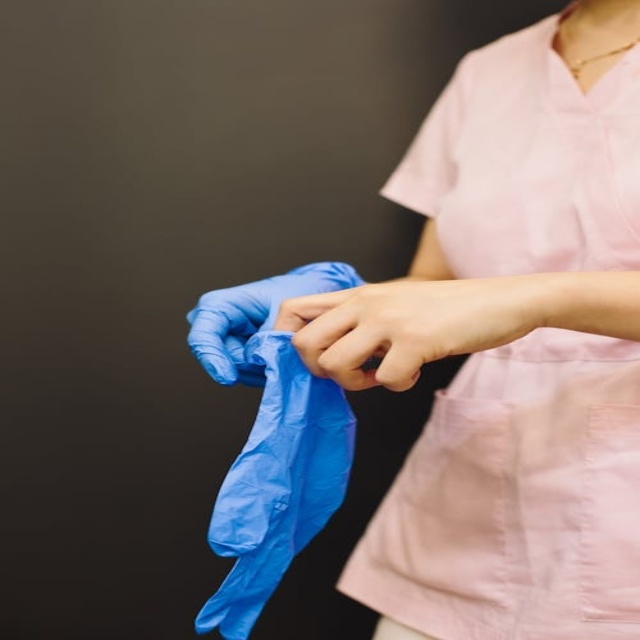Guantes: (184, 260, 364, 388)
Sin_guantes: (281, 275, 525, 395)
